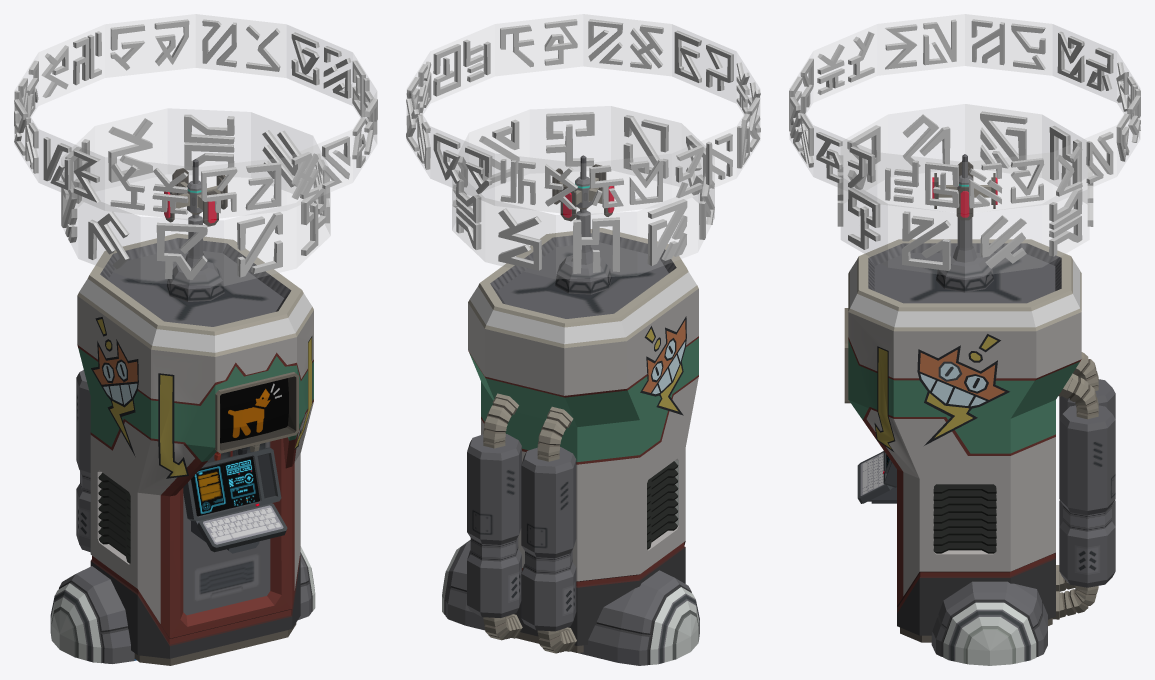
The model's file is ChargingStation.fbx.
The picture shows the model from 3 angles, left to right: view 1: azimuth 30°, elevation 25°; view 2: azimuth 150°, elevation 25°; view 3: azimuth 270°, elevation 25°; orthographic projection. The views are drawn at different scales.
Parts seen in each view (by area): view 1: ChargingStation, Ring_Big, Ring_Small; view 2: ChargingStation, Ring_Big, Ring_Small; view 3: ChargingStation, Ring_Big, Ring_Small.
Boxes of the visible parts, x1,y1,x2,y2 form: ChargingStation: [50, 159, 315, 665]; Ring_Big: [14, 14, 377, 220]; Ring_Small: [61, 108, 330, 285]; ChargingStation: [442, 155, 699, 665]; Ring_Big: [406, 14, 760, 215]; Ring_Small: [452, 106, 714, 278]; ChargingStation: [844, 154, 1115, 665]; Ring_Big: [789, 14, 1140, 213]; Ring_Small: [837, 104, 1093, 277].
Size of the model in its own units: 273 by 445 by 273.
